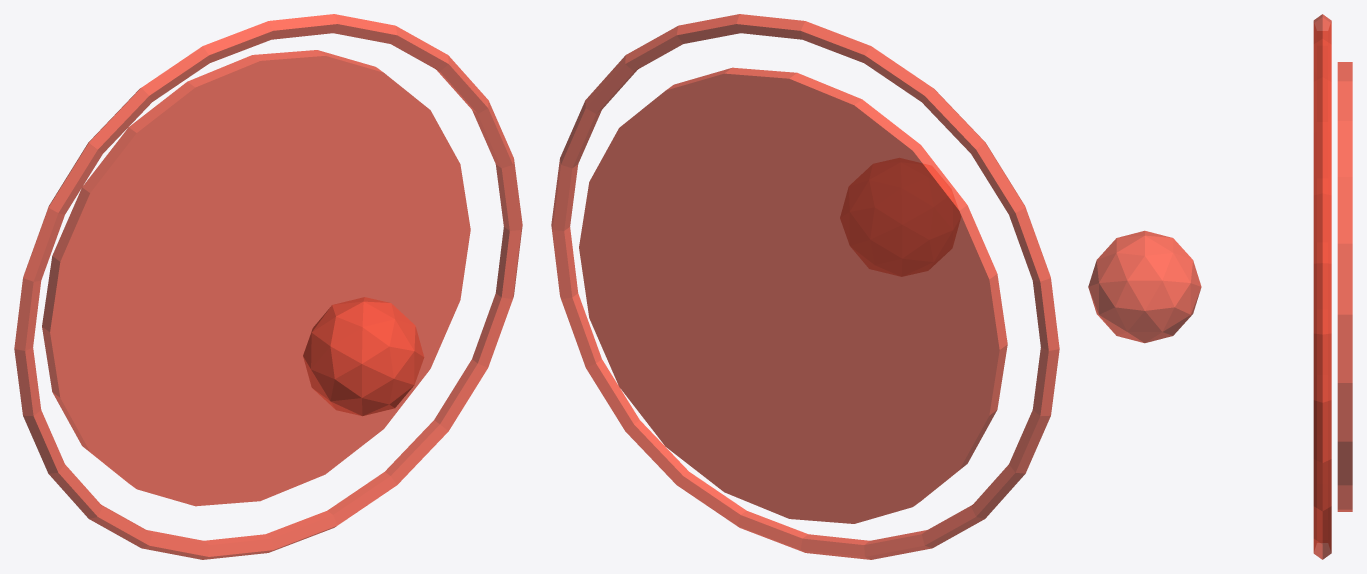
Rendered from pet_training_perch.glb.
3 renders of one model, left to right at view 1: azimuth 30°, elevation 25°; view 2: azimuth 150°, elevation 25°; view 3: azimuth 270°, elevation 25°, orthographic. The views are drawn at different scales.
Visible parts, largest first — view 1: summon_disc, summon_ring, summon_core; view 2: summon_disc, summon_ring; view 3: summon_ring, summon_core, summon_disc.
Boxes of the visible parts, x1=… form: summon_disc: x1=42, y1=50, x2=470, y2=506; summon_ring: x1=14, y1=14, x2=522, y2=559; summon_core: x1=303, y1=297, x2=424, y2=416; summon_disc: x1=579, y1=67, x2=1007, y2=523; summon_ring: x1=551, y1=14, x2=1059, y2=559; summon_ring: x1=1313, y1=14, x2=1331, y2=559; summon_core: x1=1088, y1=230, x2=1201, y2=343; summon_disc: x1=1337, y1=62, x2=1352, y2=511.
Bounding box in the file's own units: 1.45 × 1.45 × 0.7.
